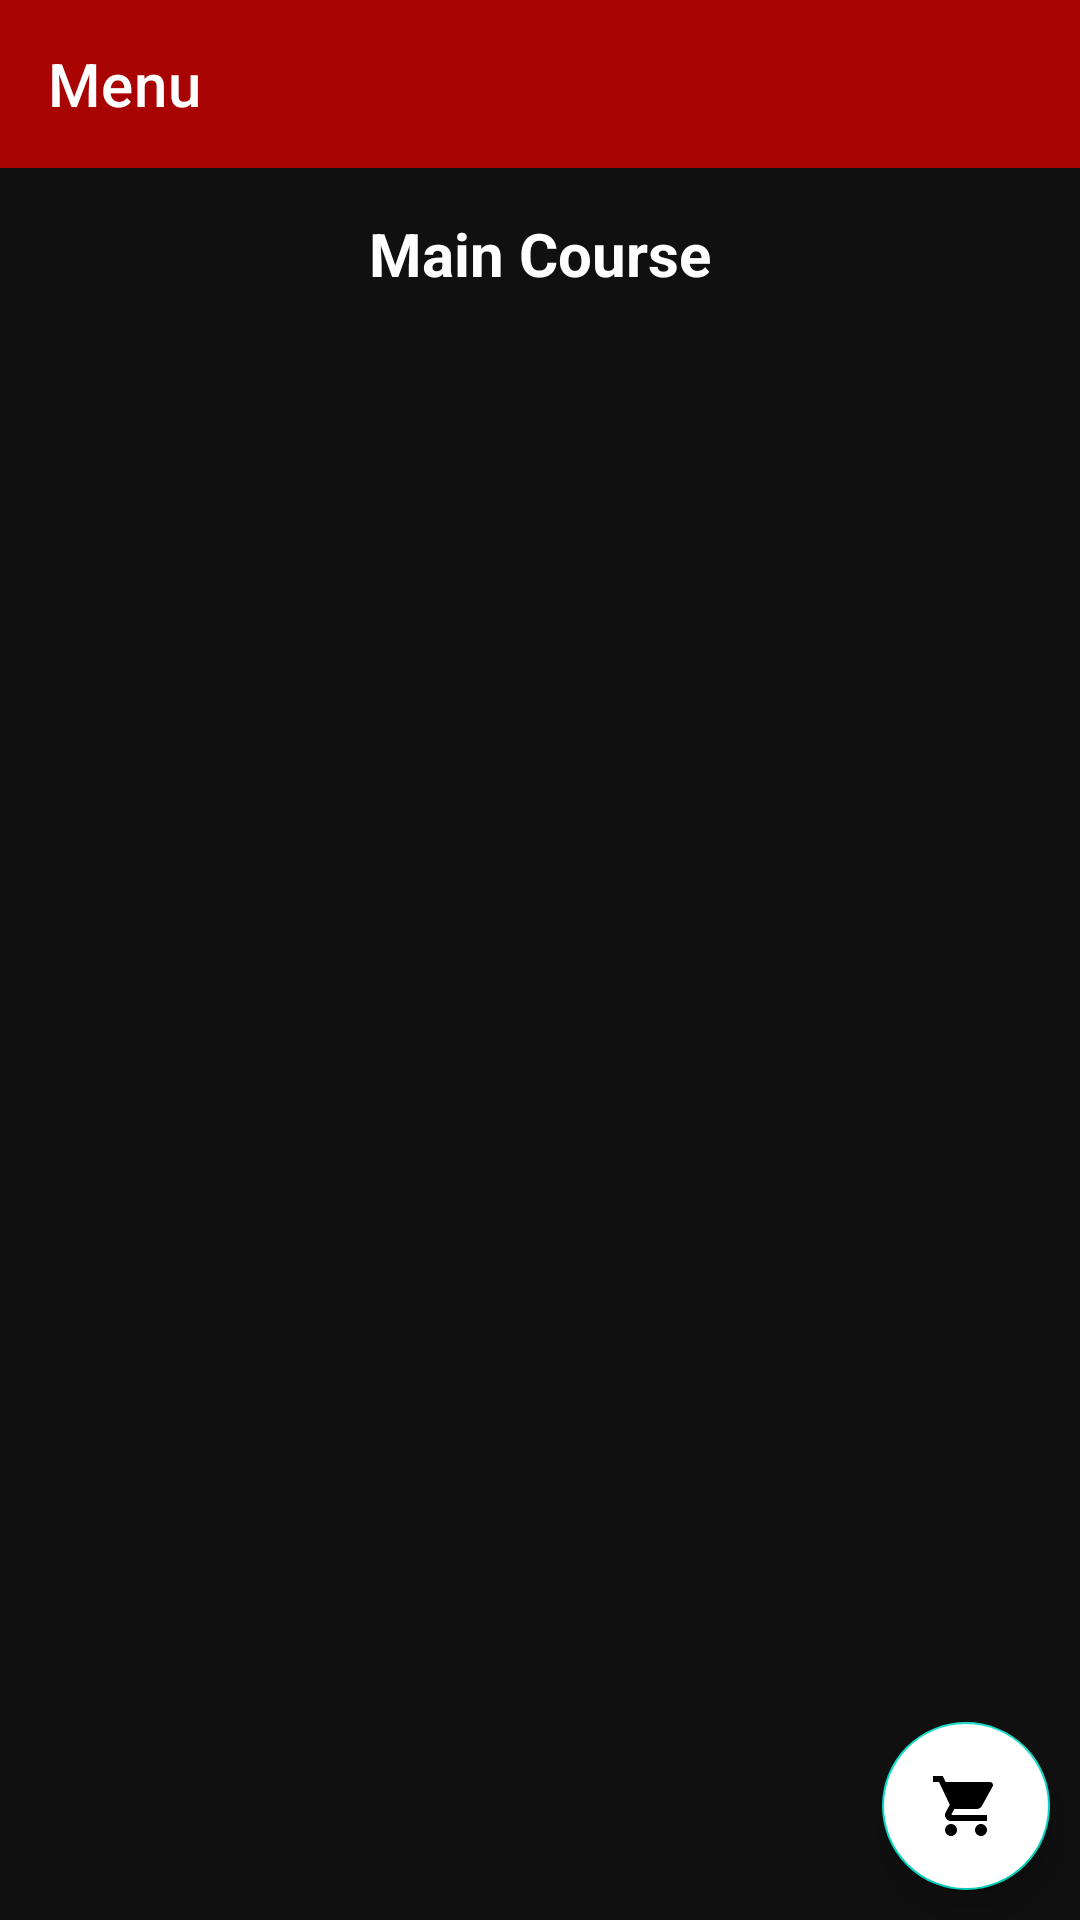

Named icons in this screenshot (1080w x 1920h) and their bounding boxes, {"x1": x1, "y1": y1, "x2": x2, "y2": y2}:
shopping cart another: {"x1": 882, "y1": 1722, "x2": 1050, "y2": 1890}
